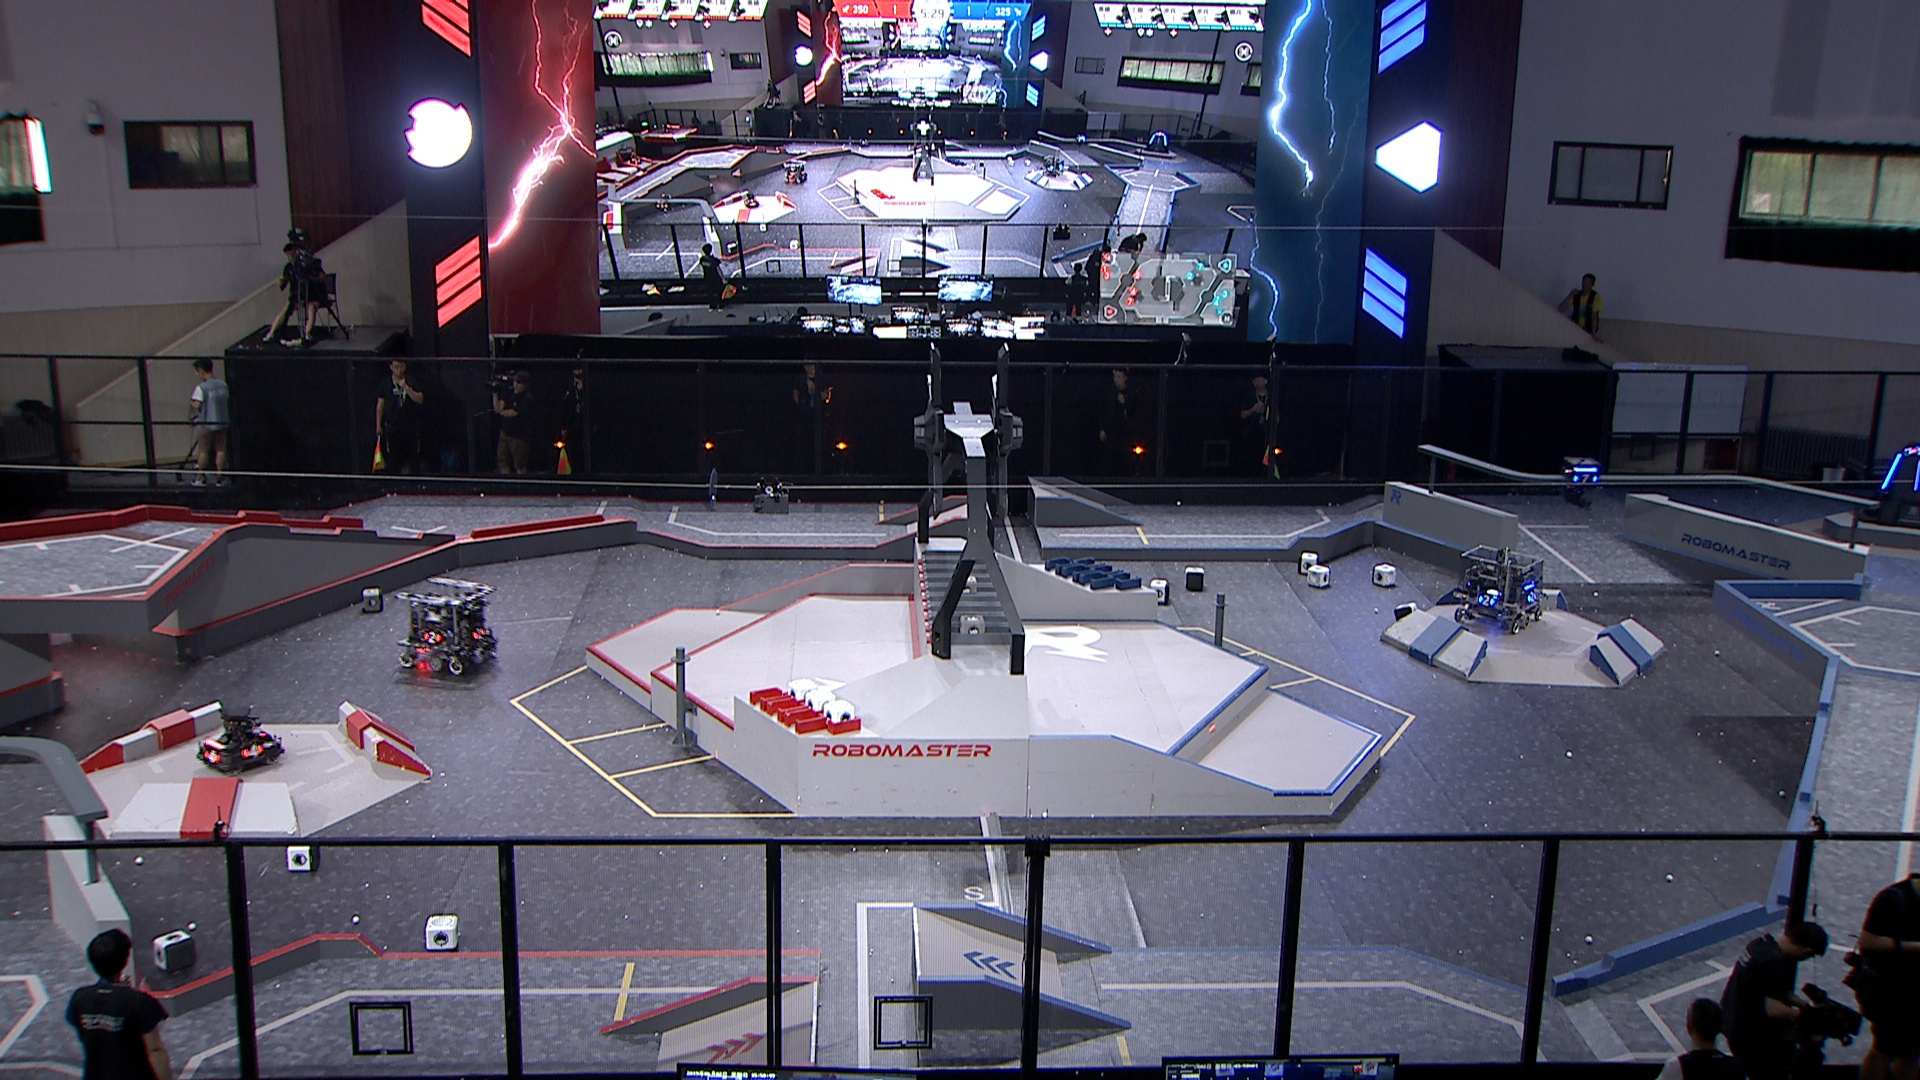armor: (1880, 448, 1902, 488), (202, 746, 222, 766), (240, 745, 266, 760), (419, 629, 440, 644), (1911, 463, 1920, 491), (1575, 473, 1598, 484), (471, 624, 487, 640), (1477, 595, 1494, 608), (1524, 589, 1539, 604), (249, 727, 266, 738)
base: (1854, 439, 1920, 531)
car: (394, 575, 498, 680), (1449, 541, 1543, 633), (191, 703, 284, 773)
ignore: (779, 160, 808, 186), (1143, 129, 1174, 154), (618, 146, 646, 167), (1040, 160, 1067, 179), (651, 191, 675, 211), (740, 191, 760, 210), (1073, 131, 1091, 148)
watcher: (1560, 454, 1605, 512)
